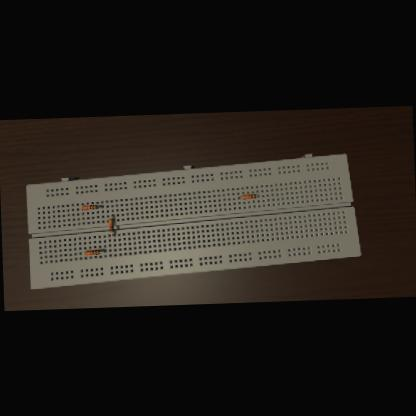breadboard: (25, 152, 361, 289)
resistor: (84, 249, 99, 255), (82, 204, 96, 210), (108, 218, 113, 233), (242, 194, 256, 199)
wire: (96, 206, 102, 208), (110, 232, 113, 235), (99, 250, 106, 251), (110, 216, 112, 218), (256, 196, 258, 197), (83, 253, 84, 254), (80, 208, 80, 209), (238, 198, 242, 198)
